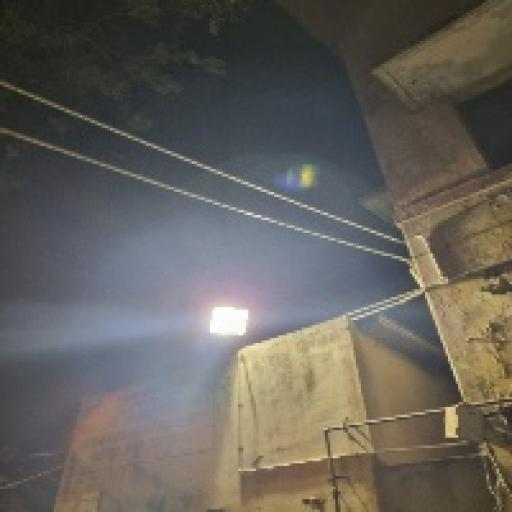Working: (201, 298, 258, 347)
